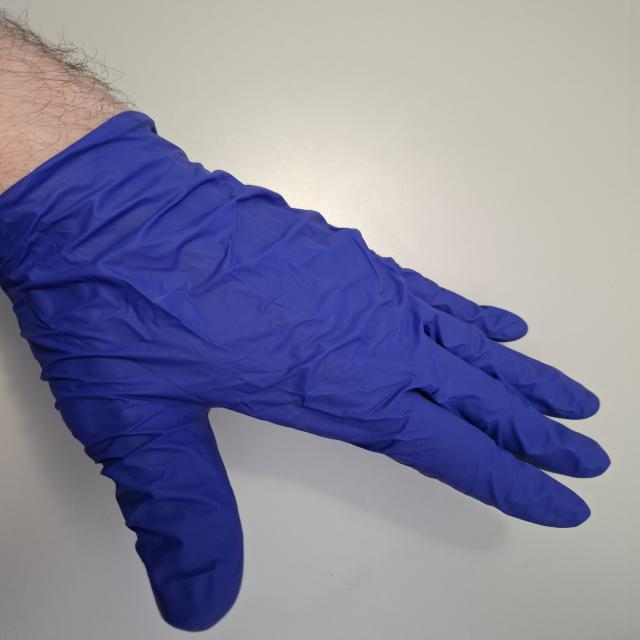glove_on: (0, 106, 618, 634)
